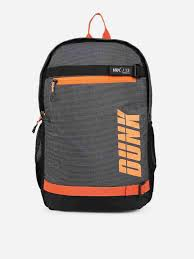backpack: (32, 12, 156, 212)
